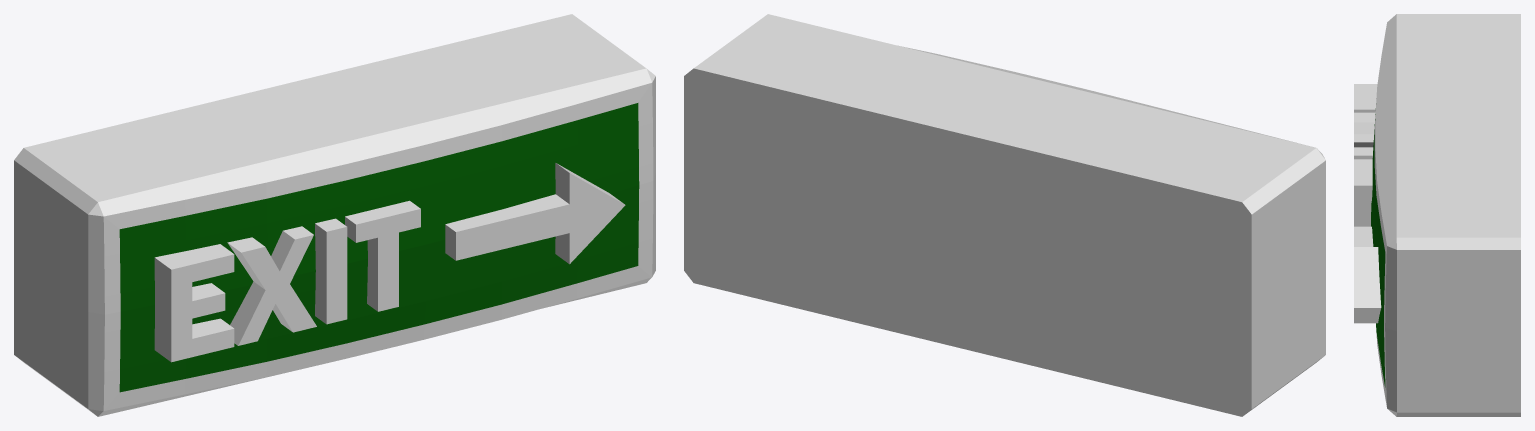
Rendered from Emergency_Exit.fbx.
The picture shows the model from 3 angles, left to right: view 1: azimuth 30°, elevation 25°; view 2: azimuth 150°, elevation 25°; view 3: azimuth 270°, elevation 25°; orthographic projection. The views are drawn at different scales.
Visible parts, largest first — view 1: Emergency Exit; view 2: Emergency Exit; view 3: Emergency Exit.
Part boxes in pixels (x1,y1,x2,y2): Emergency Exit: [14, 14, 655, 416]; Emergency Exit: [684, 14, 1325, 416]; Emergency Exit: [1354, 14, 1520, 416].
Size of the model in its own units: 100 by 36.14 by 30.45.
